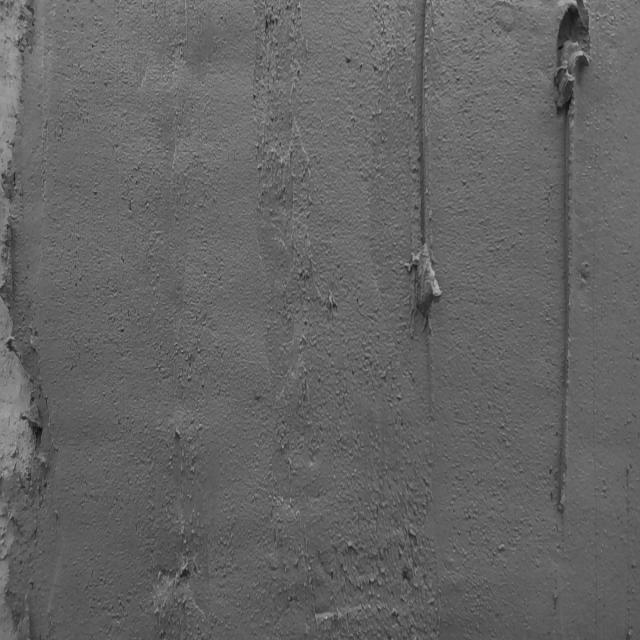trowels marks: (549, 2, 595, 546), (408, 10, 447, 640)
